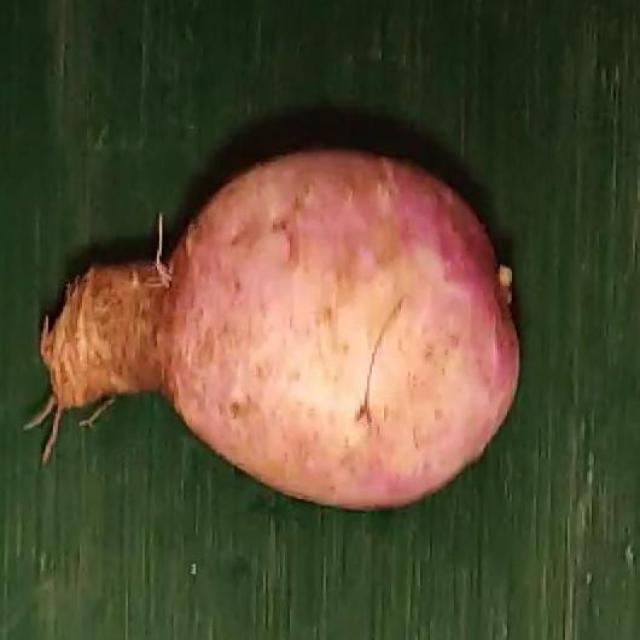Sweet Potato: (42, 149, 520, 513)
